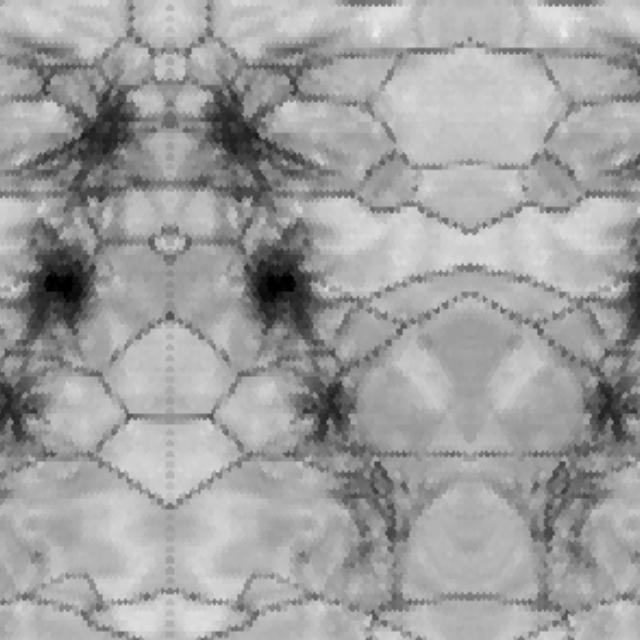good_void: (189, 83, 329, 210), (9, 83, 149, 210), (233, 216, 340, 359), (0, 216, 105, 359), (337, 460, 448, 568), (491, 460, 602, 568), (290, 372, 363, 460), (258, 31, 356, 94), (599, 216, 640, 359), (576, 372, 640, 459), (0, 31, 80, 94), (0, 372, 48, 460), (583, 31, 640, 91), (377, 576, 407, 616), (532, 576, 562, 616), (289, 536, 321, 571), (17, 536, 49, 571), (617, 536, 640, 571), (407, 182, 421, 198), (518, 182, 531, 198)
